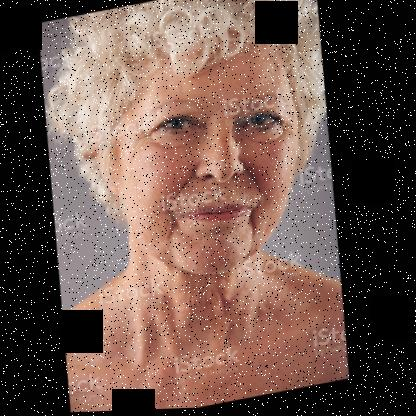Female: (81, 27, 324, 295)
